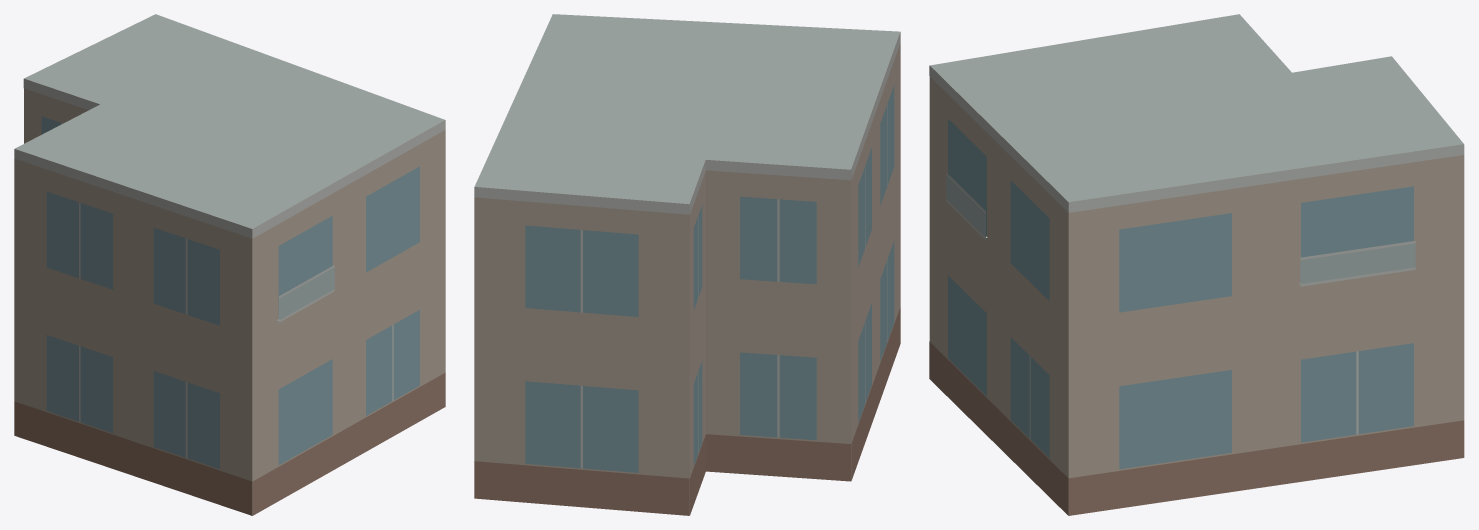
File: survey-upis-32900979.glb
3 views of the same model, side by side, from view 1: azimuth 30°, elevation 25°; view 2: azimuth 150°, elevation 25°; view 3: azimuth 270°, elevation 25° (orthographic). The views are drawn at different scales.
Parts seen in each view (by area): view 1: survey-upis-32900979.tmp; view 2: survey-upis-32900979.tmp; view 3: survey-upis-32900979.tmp.
Part boxes in pixels (bbox=[...]): survey-upis-32900979.tmp: bbox=[14, 14, 445, 515]; survey-upis-32900979.tmp: bbox=[474, 14, 900, 515]; survey-upis-32900979.tmp: bbox=[929, 14, 1464, 515].
Bounding box in the file's own units: 9.28 × 7.2 × 11.14.
